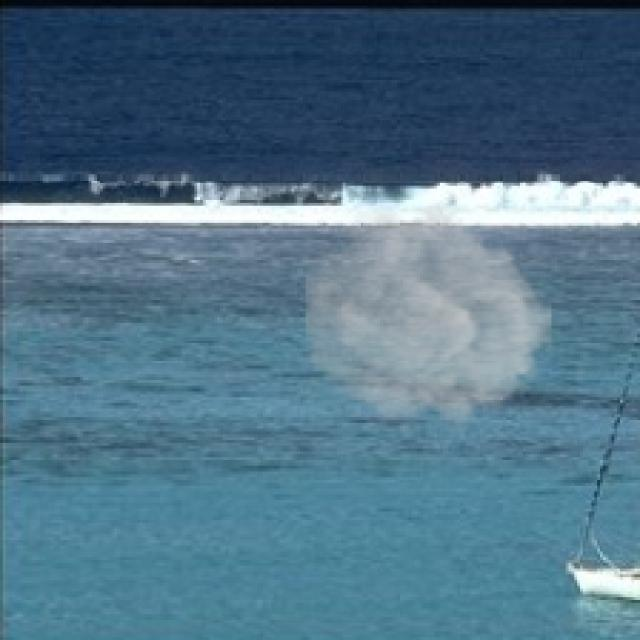smoke: (306, 200, 551, 434)
